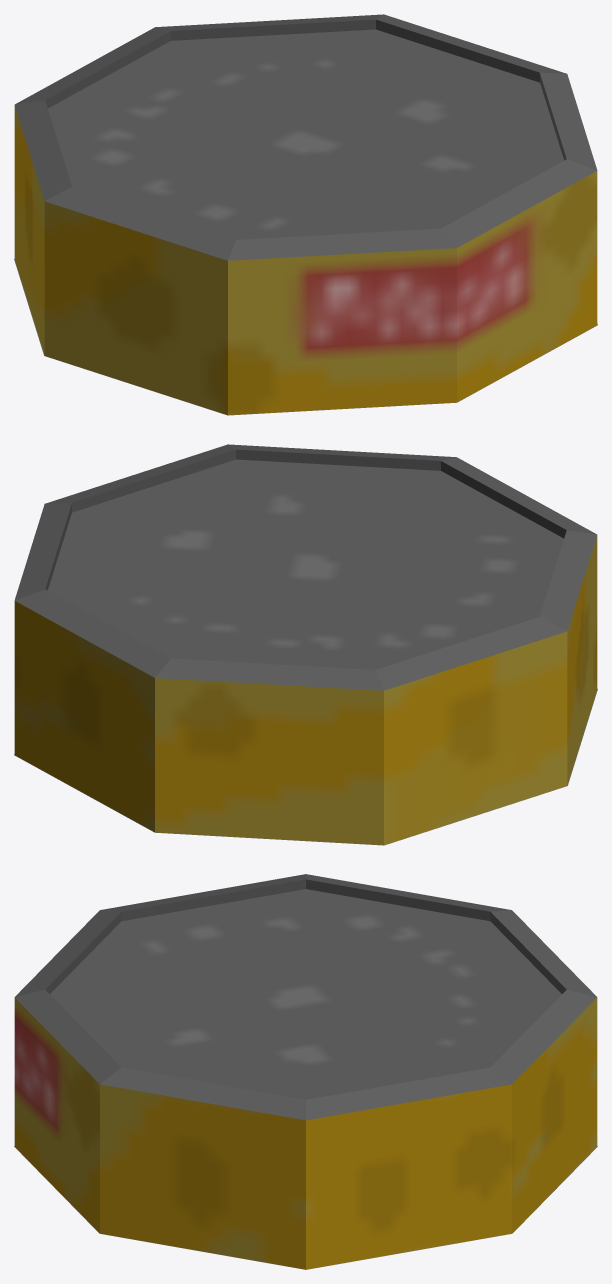
File: ration.glb
3 views of the same model, one above another, from view 1: azimuth 30°, elevation 25°; view 2: azimuth 150°, elevation 25°; view 3: azimuth 270°, elevation 25° (orthographic). The views are drawn at different scales.
Parts seen in each view (by area): view 1: Cylinder; view 2: Cylinder; view 3: Cylinder.
Boxes of the visible parts, bbox=[...] form: Cylinder: bbox=[14, 14, 597, 415]; Cylinder: bbox=[14, 444, 597, 845]; Cylinder: bbox=[14, 874, 597, 1269].
Size of the model in its own units: 2.03 by 0.633 by 2.03.
Materials: 1 (1 with a texture image).
